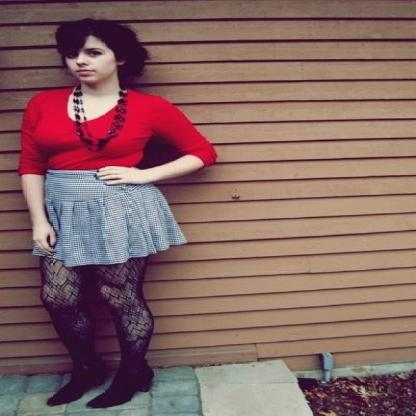jacket: (17, 84, 236, 174)
shoe: (47, 362, 153, 407)
skirt: (39, 169, 187, 266)
